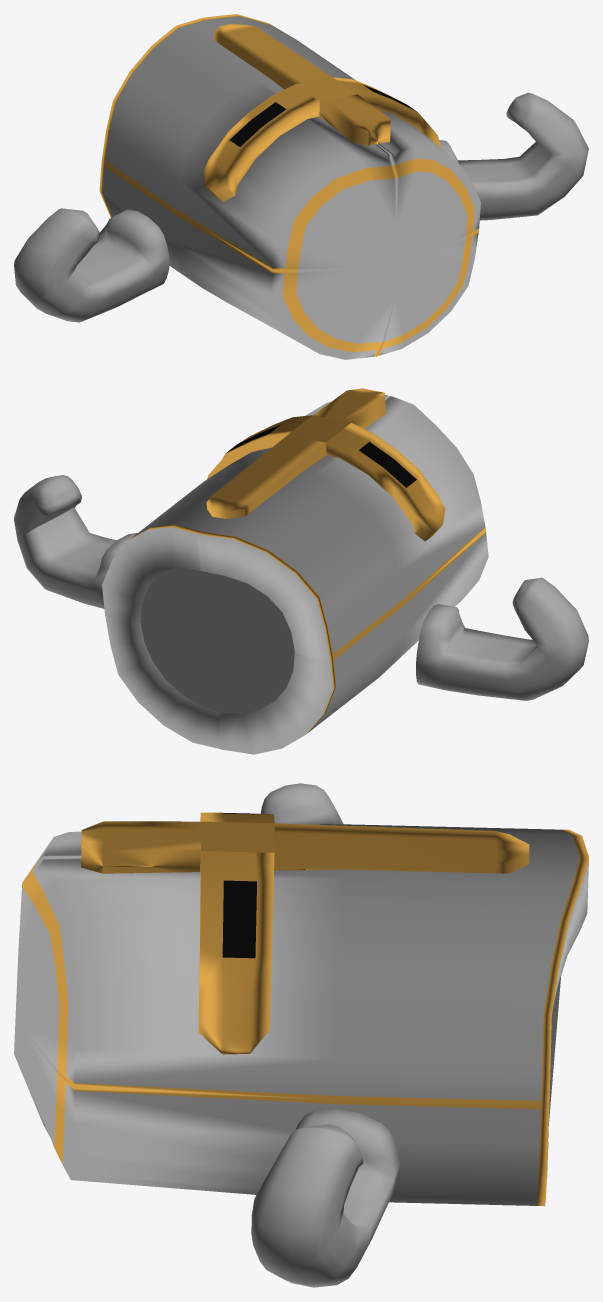
The model's file is CaballeroMuerte.fbx.
3 views of the same model, one above another, from view 1: azimuth 30°, elevation 25°; view 2: azimuth 150°, elevation 25°; view 3: azimuth 270°, elevation 25° (orthographic). The views are drawn at different scales.
Parts seen in each view (by area): view 1: pCube20; view 2: pCube20; view 3: pCube20.
Boxes of the visible parts, left/top/right/bottom form: pCube20: left=14, top=14, right=588, bottom=359; pCube20: left=14, top=388, right=588, bottom=754; pCube20: left=14, top=783, right=588, bottom=1287.
Bounding box in the file's own units: 1749 × 713 × 1058.
